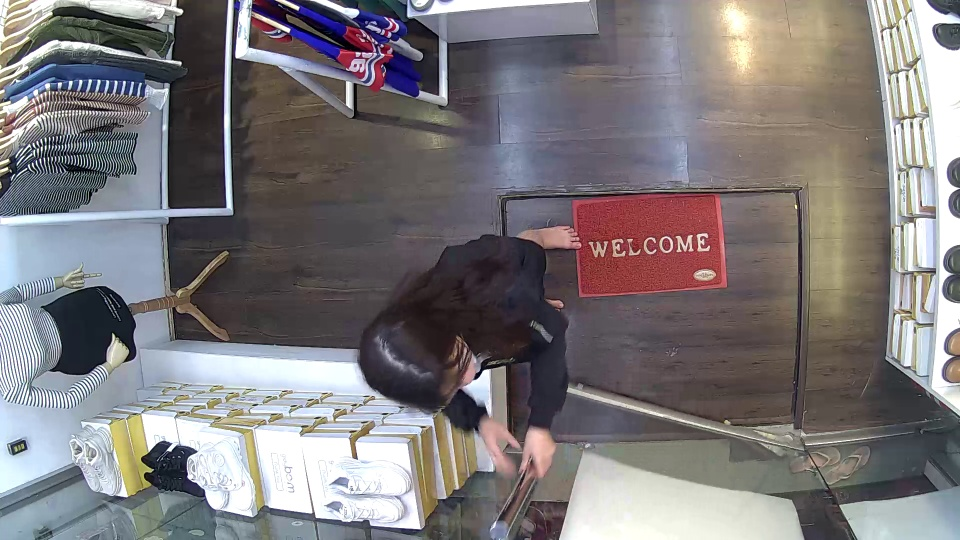topviewhead: (357, 310, 474, 413)
